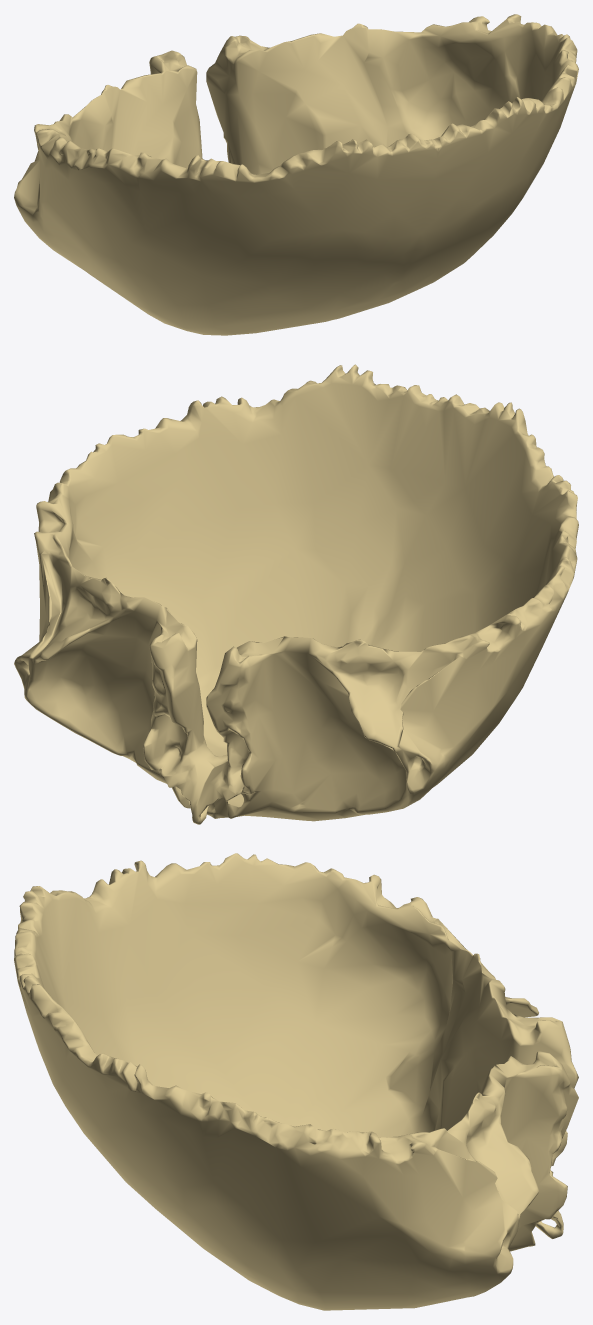
3 renders of one model, top to bottom at view 1: azimuth 30°, elevation 25°; view 2: azimuth 150°, elevation 25°; view 3: azimuth 270°, elevation 25°, orthographic. The views are drawn at different scales.
Parts seen in each view (by area): view 1: 额骨; view 2: 额骨; view 3: 额骨.
Part boxes in pixels (bbox=[...]): 额骨: bbox=[14, 14, 578, 335]; 额骨: bbox=[14, 364, 578, 824]; 额骨: bbox=[14, 853, 578, 1310].
Bounding box in the file's own units: 0.1803 × 0.1018 × 0.157.
